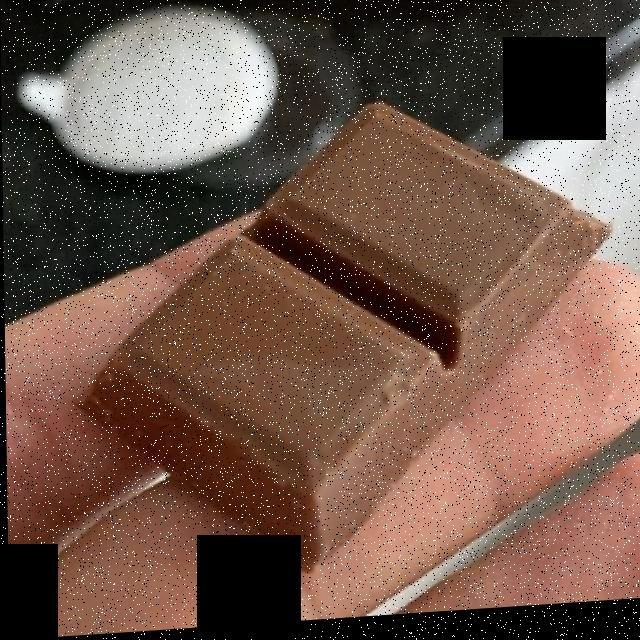chocolate: (87, 124, 592, 553)
